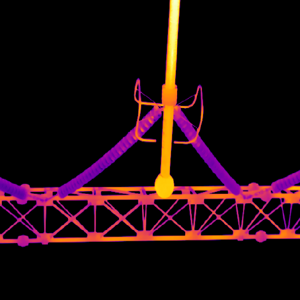insulator: (58, 105, 160, 196), (172, 105, 241, 195), (268, 169, 300, 192), (0, 180, 30, 198)
